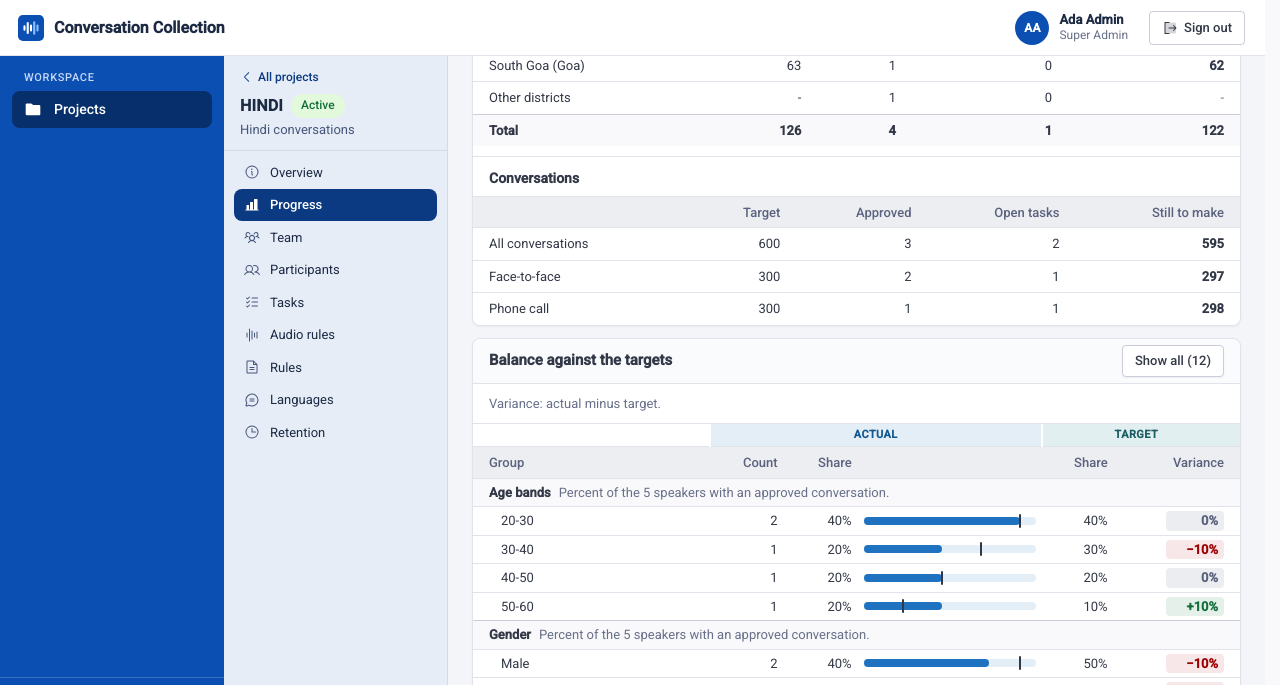
Scenario: the Progress tab › shows the first ten districts and the rest on request
The image size is (1280, 685).
(page scrolled)
Expected: the text "District 11" is not shown
Expected: the element "Show all (12)" reads "Balance against the targets Show all (12)", [473,338,1240,384]
Click the button "Show all (12)" at (1173, 360), box [1122,344,1224,376]
(page scrolled)
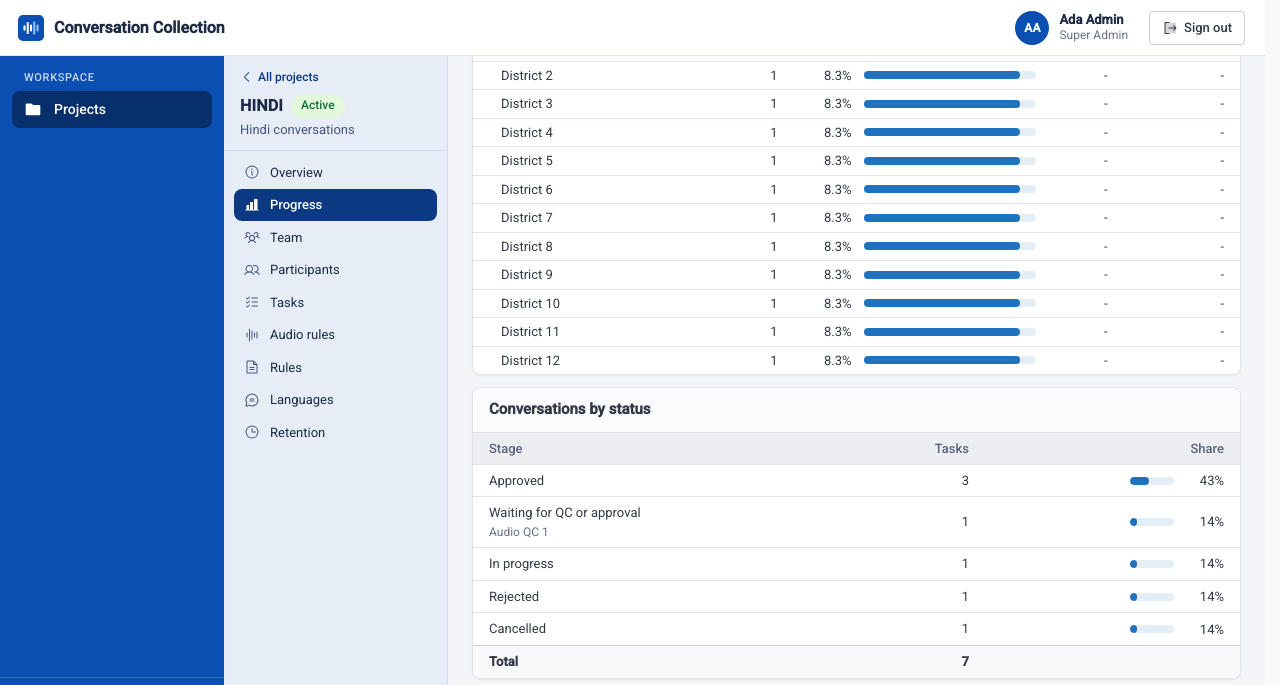
Expected: the column heading "District 12" is shown, [473,346,710,374]
